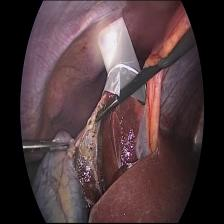Grasper: (23, 135, 71, 157), (94, 100, 116, 124)
Specimen Bag: (96, 14, 148, 108)
